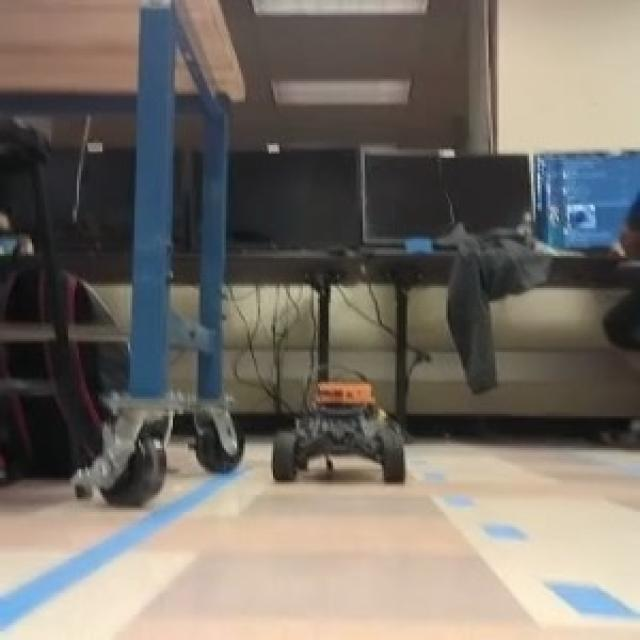obstacle: (266, 376, 406, 486)
